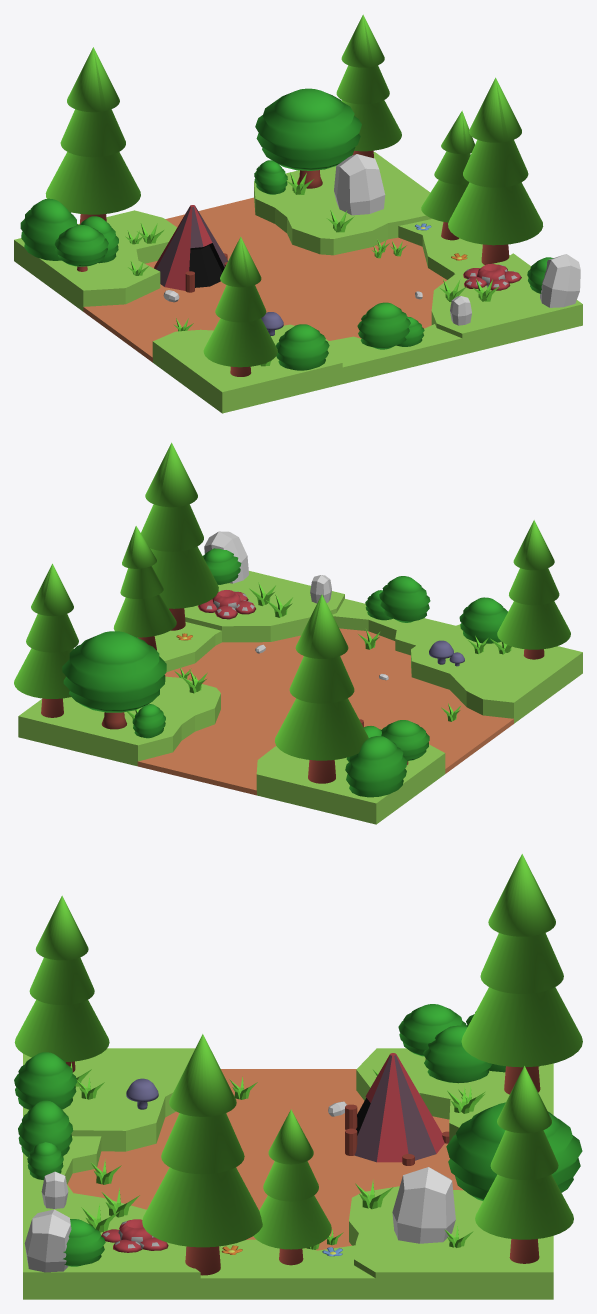
Rendered from jungle level set - 2 Way (2).fbx.
3 views of the same model, one above another, from view 1: azimuth 30°, elevation 25°; view 2: azimuth 150°, elevation 25°; view 3: azimuth 270°, elevation 25° (orthographic). The views are drawn at different scales.
Visible parts, largest first — view 1: land_platform, tree_008, tree, tree_003, tree_006, tree_001, camp, tree_007, stone_004, bush_003, bush_005, bush_004 (+6 smaller); view 2: land_platform, tree, tree_008, tree_003, tree_006, tree_001, tree_007, bush_003, bush_004, bush_005, tree_004, raflesia (+4 smaller); view 3: land_platform, tree_008, tree, tree_001, tree_006, camp, tree_007, tree_003, stone_004, bush_005, bush_001, stone_001 (+7 smaller).
Boxes of the visible parts, <box> form: land_platform: <box>14,152,582,413</box>; tree_008: <box>448,77,543,264</box>; tree: <box>45,47,140,224</box>; tree_003: <box>255,88,361,188</box>; tree_006: <box>203,236,277,376</box>; tree_001: <box>336,14,401,158</box>; camp: <box>154,205,227,292</box>; tree_007: <box>421,110,474,240</box>; stone_004: <box>334,154,385,215</box>; bush_003: <box>20,198,77,260</box>; bush_005: <box>276,324,329,370</box>; bush_004: <box>357,302,410,349</box>; land_platform: <box>18,571,582,824</box>; tree: <box>275,594,368,783</box>; tree_008: <box>141,442,218,630</box>; tree_003: <box>62,631,166,729</box>; tree_006: <box>497,520,570,659</box>; tree_001: <box>14,563,78,717</box>; tree_007: <box>113,526,176,650</box>; bush_003: <box>345,736,407,797</box>; bush_004: <box>379,576,430,622</box>; bush_005: <box>459,597,507,643</box>; tree_004: <box>381,720,429,764</box>; raflesia: <box>198,590,255,619</box>; land_platform: <box>23,1048,553,1299</box>; tree_008: <box>142,1034,262,1275</box>; tree: <box>461,854,582,1094</box>; tree_001: <box>475,1066,573,1263</box>; tree_006: <box>14,895,109,1072</box>; camp: <box>345,1053,449,1165</box>; tree_007: <box>253,1109,331,1265</box>; tree_003: <box>446,1102,582,1200</box>; stone_004: <box>392,1167,455,1243</box>; bush_005: <box>14,1052,76,1109</box>; bush_001: <box>423,1025,491,1083</box>; stone_001: <box>24,1209,71,1272</box>.
Bounding box in the file's own units: 16.49 × 8.5 × 16.27.
